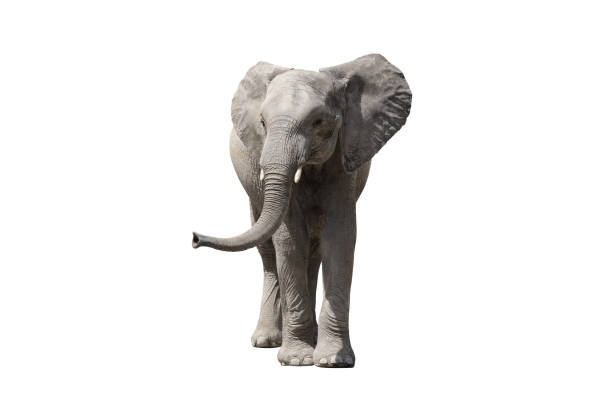africanelephant: (195, 79, 373, 268)
